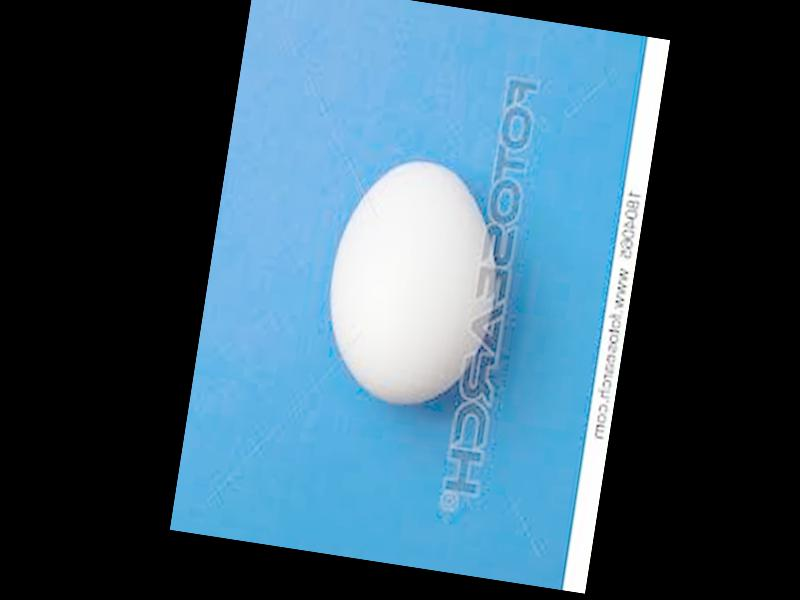Eggs: (315, 151, 517, 416)
